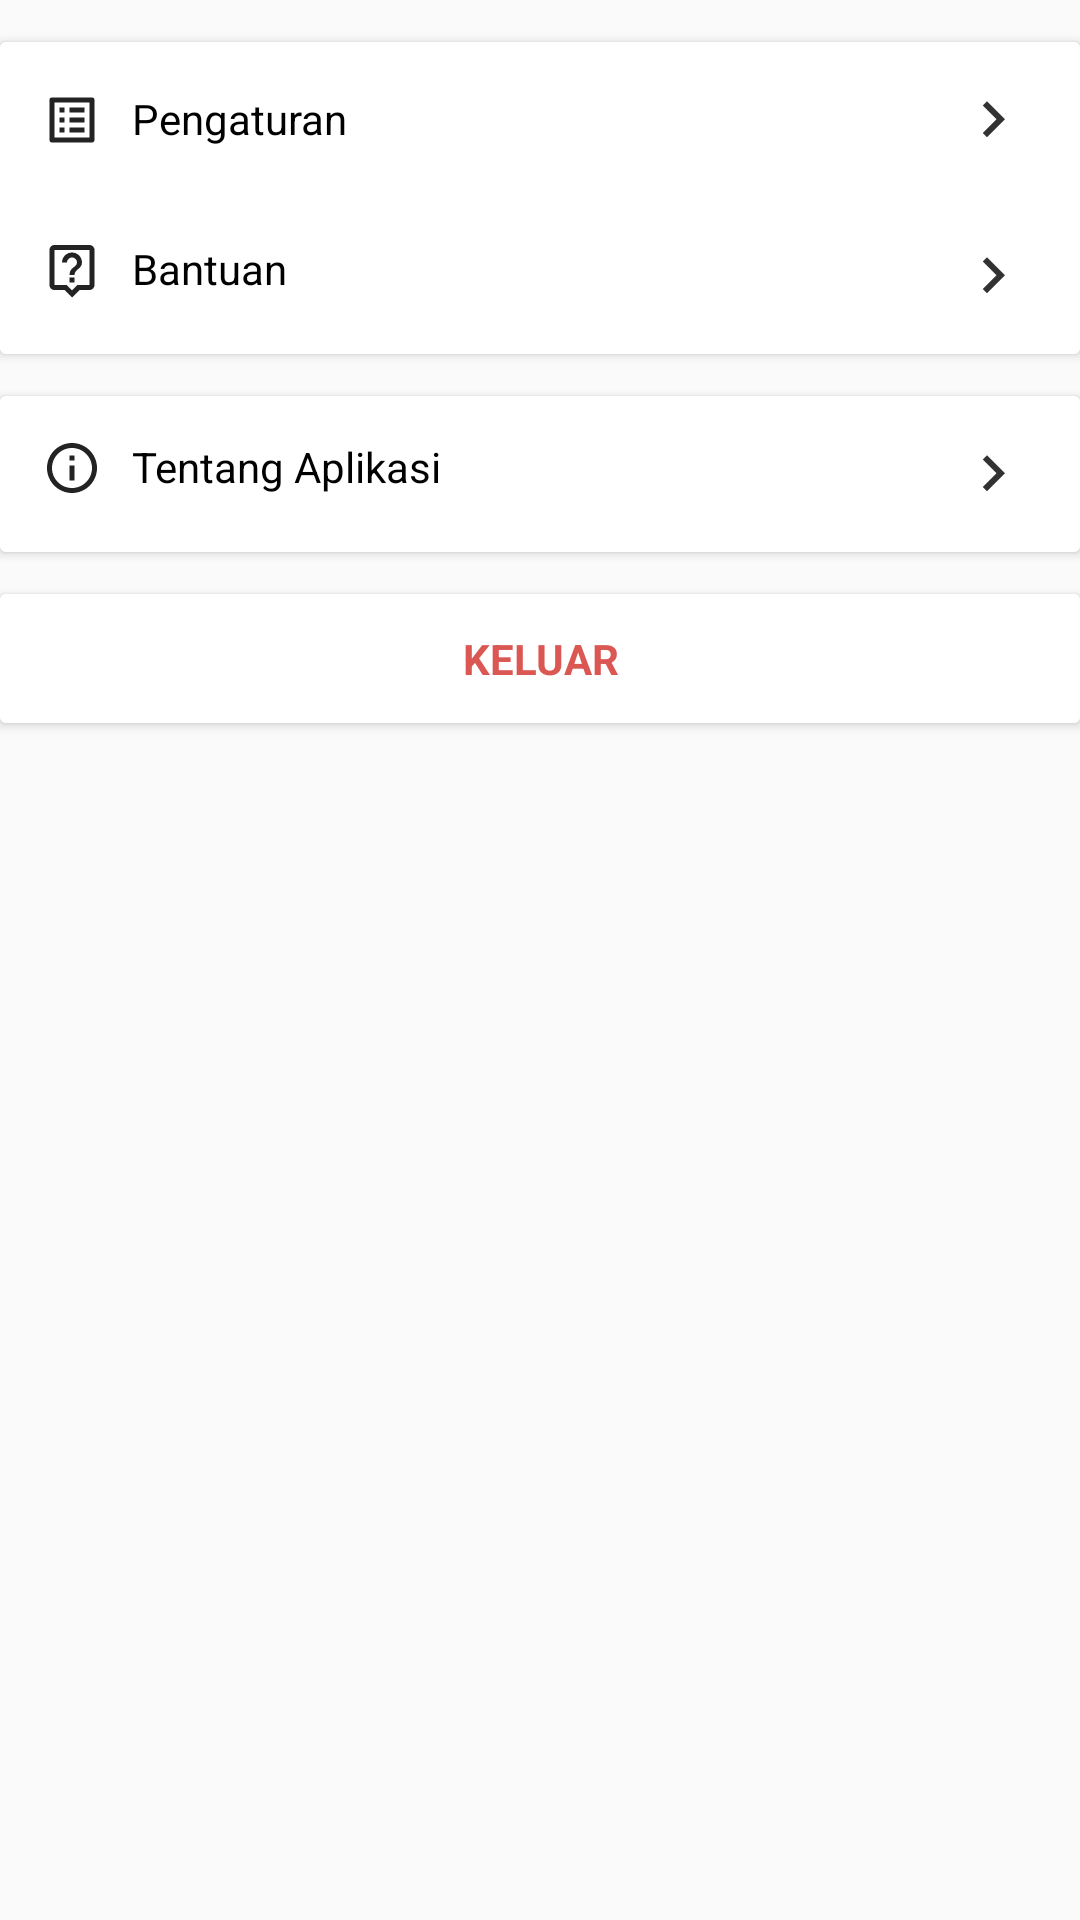

Icons on this 1080x1920 Android screen, each with its box as (x1, y1, x2, y2):
arrow right: (983, 101, 1005, 137), (983, 257, 1005, 293), (983, 455, 1005, 491)
